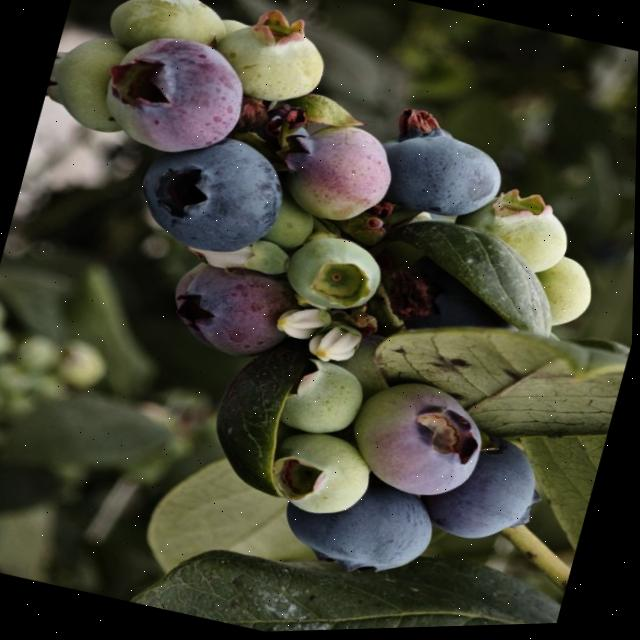RipeBlueBerry: (123, 117, 294, 270), (275, 466, 445, 590), (417, 426, 553, 558), (384, 122, 511, 234)
Semi-RipeBlueBerry: (93, 26, 255, 169), (344, 371, 495, 510), (273, 114, 403, 236), (160, 256, 295, 367)
UnripeBlueBerry: (202, 5, 337, 118), (449, 180, 582, 286), (43, 26, 137, 136), (269, 352, 374, 447), (282, 230, 389, 322), (101, 0, 232, 64)
